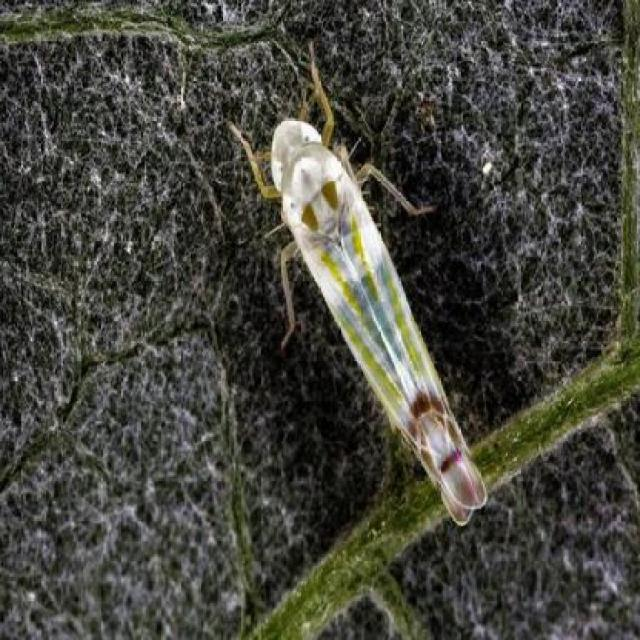green-leafhopper: (224, 46, 485, 524)
